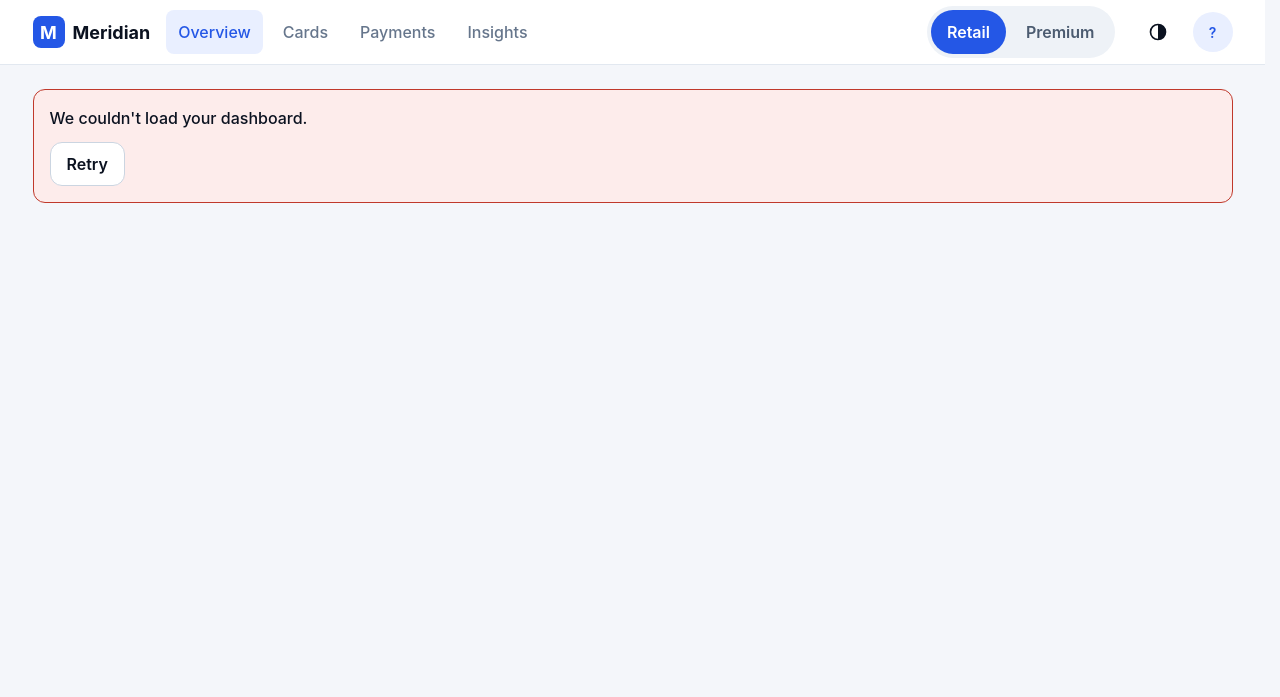
Test: dashboard › shows an error when a request fails, and Retry loads it
The image size is (1280, 697).
Check: the text "We couldn't load your dashboard." is shown, box [50, 106, 308, 130]
Click the button "Retry": point(87, 164) [50, 142, 125, 186]
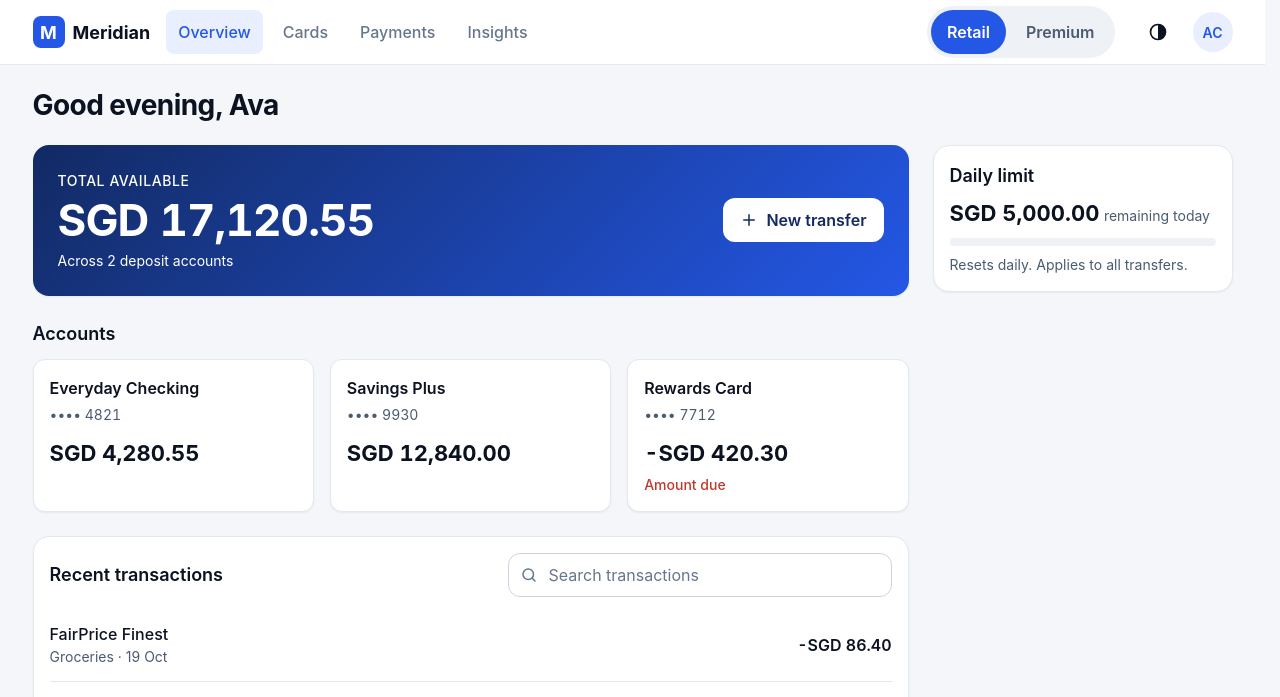
Check: the text "SGD 4,280.55" is shown, box [50, 440, 199, 466]
Check: the text "We couldn't load your dashboard." is gone
